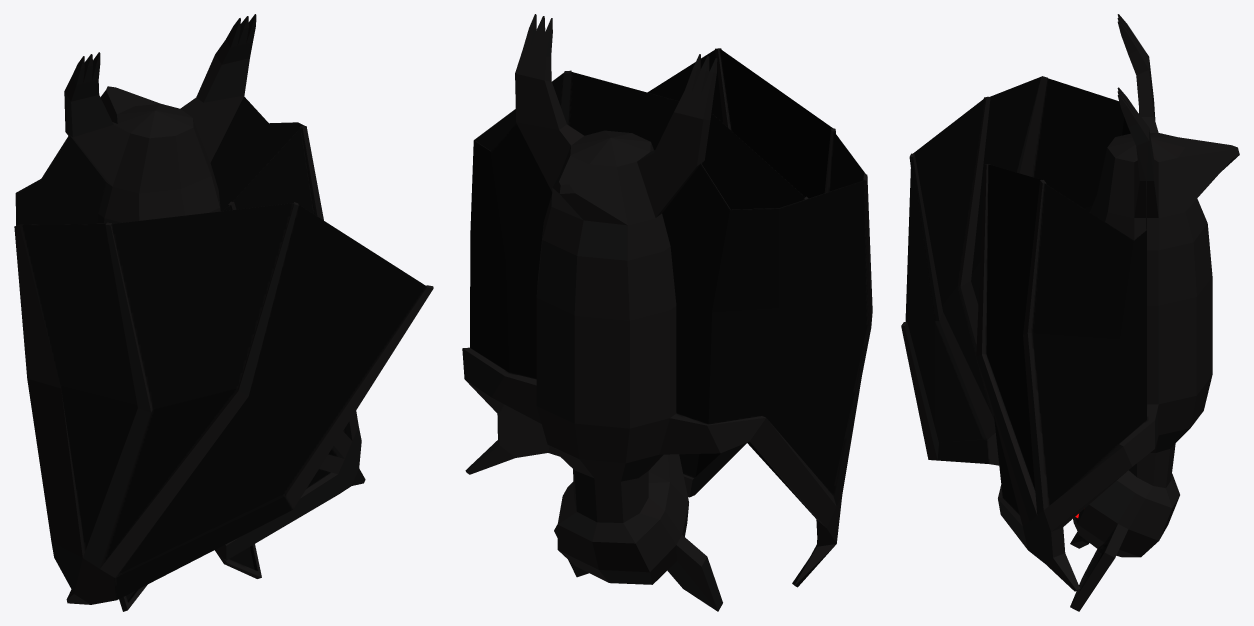
Rendered from Bat3.fbx.
3 renders of one model, left to right at view 1: azimuth 30°, elevation 25°; view 2: azimuth 150°, elevation 25°; view 3: azimuth 270°, elevation 25°, orthographic. The views are drawn at different scales.
Visible parts, largest first — view 1: Bat3; view 2: Bat3; view 3: Bat3.
Boxes of the visible parts, x1,y1,x2,y2 form: Bat3: (14,14,433,611); Bat3: (462,14,872,611); Bat3: (901,14,1239,611).
Size of the model in its own units: 11.27 by 9.37 by 16.06.
